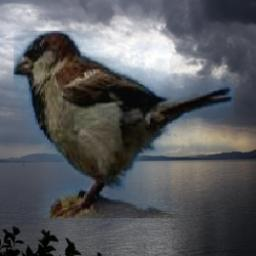Sparrow: (14, 32, 234, 219)
